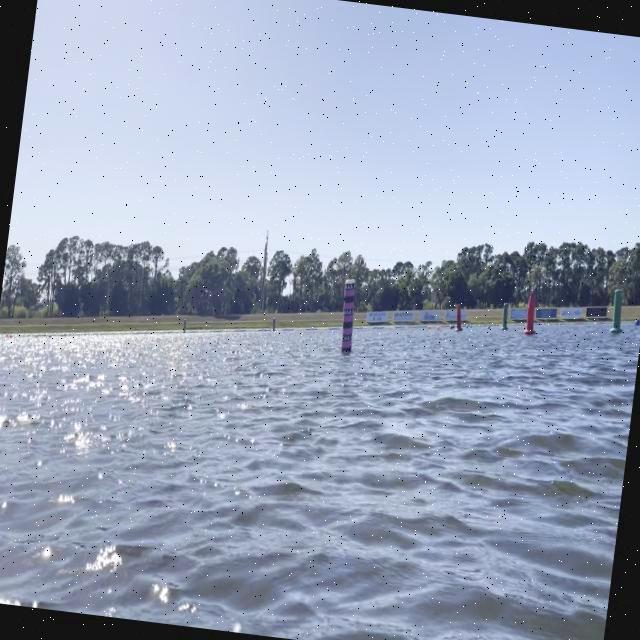buoy: (632, 315, 640, 328), (434, 324, 440, 332)
